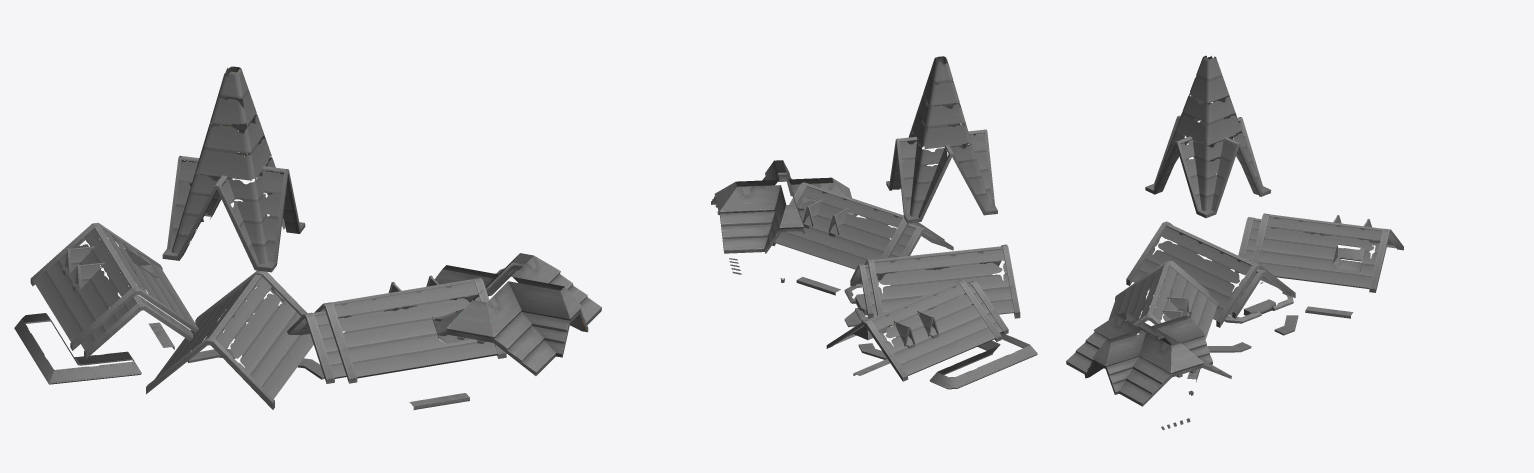
Rendered from pref_sm_garden_house_vertexcolor01_lv2.fbx.
The picture shows the model from 3 angles, left to right: view 1: azimuth 30°, elevation 25°; view 2: azimuth 150°, elevation 25°; view 3: azimuth 270°, elevation 25°; orthographic projection. The views are drawn at different scales.
Visible parts, largest first — view 1: sm_garden_house_vertexcolor01_lv2; view 2: sm_garden_house_vertexcolor01_lv2; view 3: sm_garden_house_vertexcolor01_lv2.
Boxes of the visible parts, x1=… form: sm_garden_house_vertexcolor01_lv2: x1=14, y1=66, x2=601, y2=409; sm_garden_house_vertexcolor01_lv2: x1=711, y1=56, x2=1037, y2=389; sm_garden_house_vertexcolor01_lv2: x1=1066, y1=55, x2=1403, y2=430.
Bounding box in the file's own units: 28.6 × 21.39 × 28.45.
